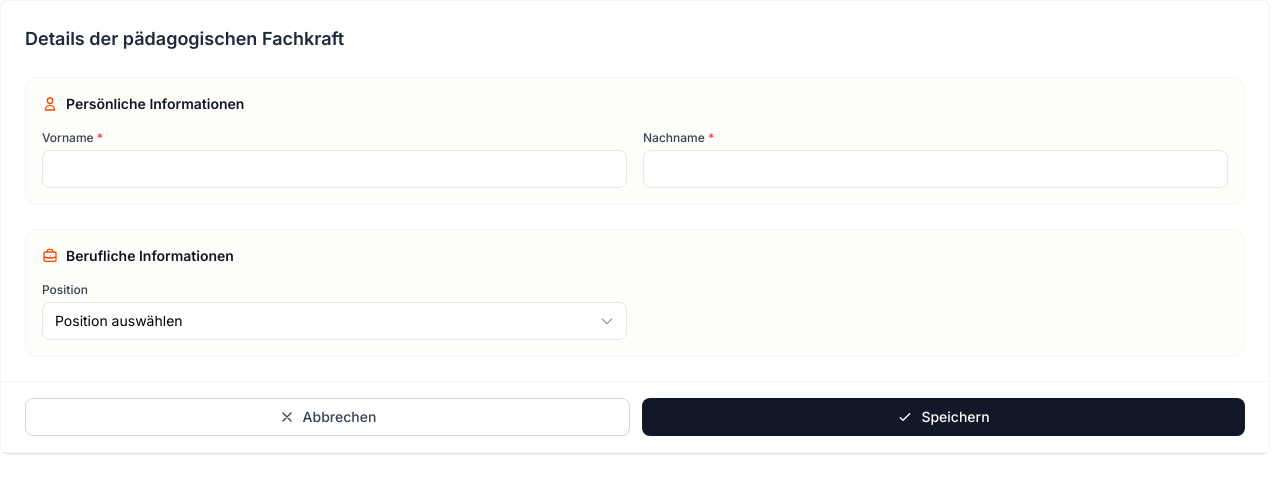
Test: TeacherForm › shows validation error for empty lastName
The image size is (1280, 491).
Type "John" into the field labelled "Vorname *" at (334, 169), box [42,150,627,188]
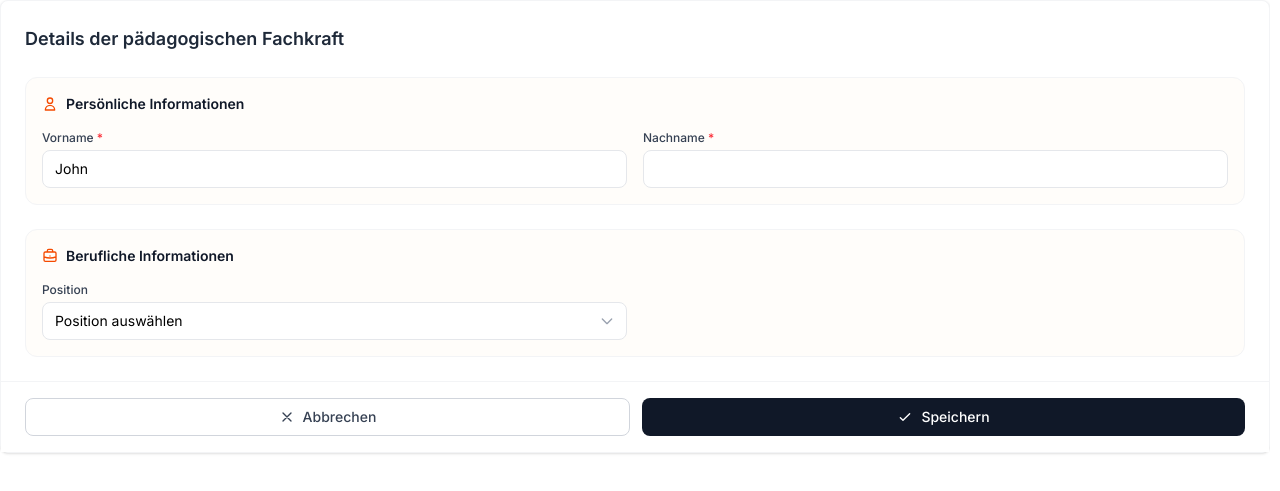
Click the button "Speichern" at (944, 417), box [642,398,1245,436]
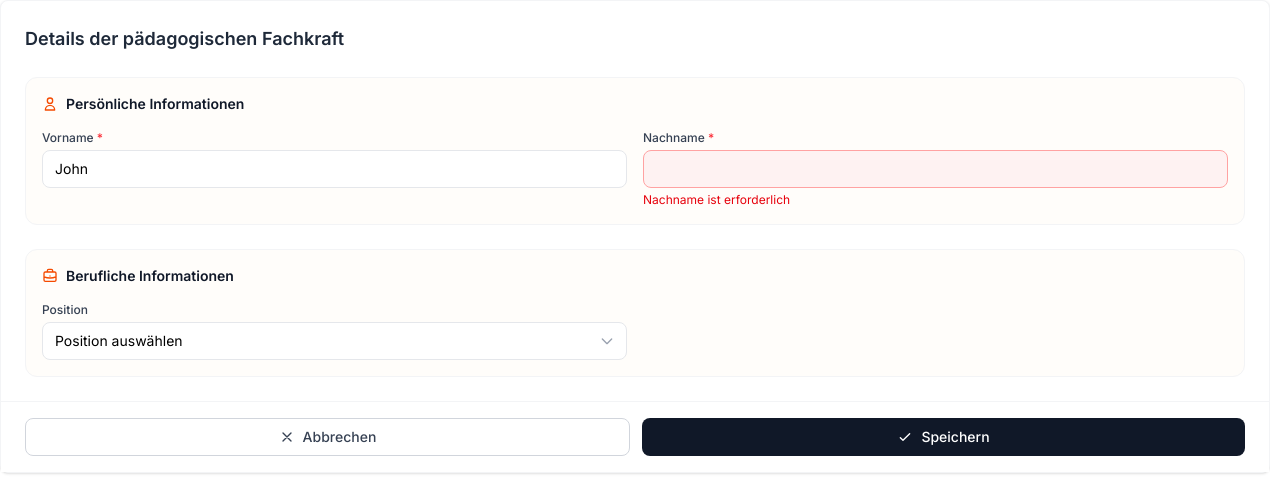
Expected: the text "Nachname ist erforderlich" is shown, [643,192,790,207]
